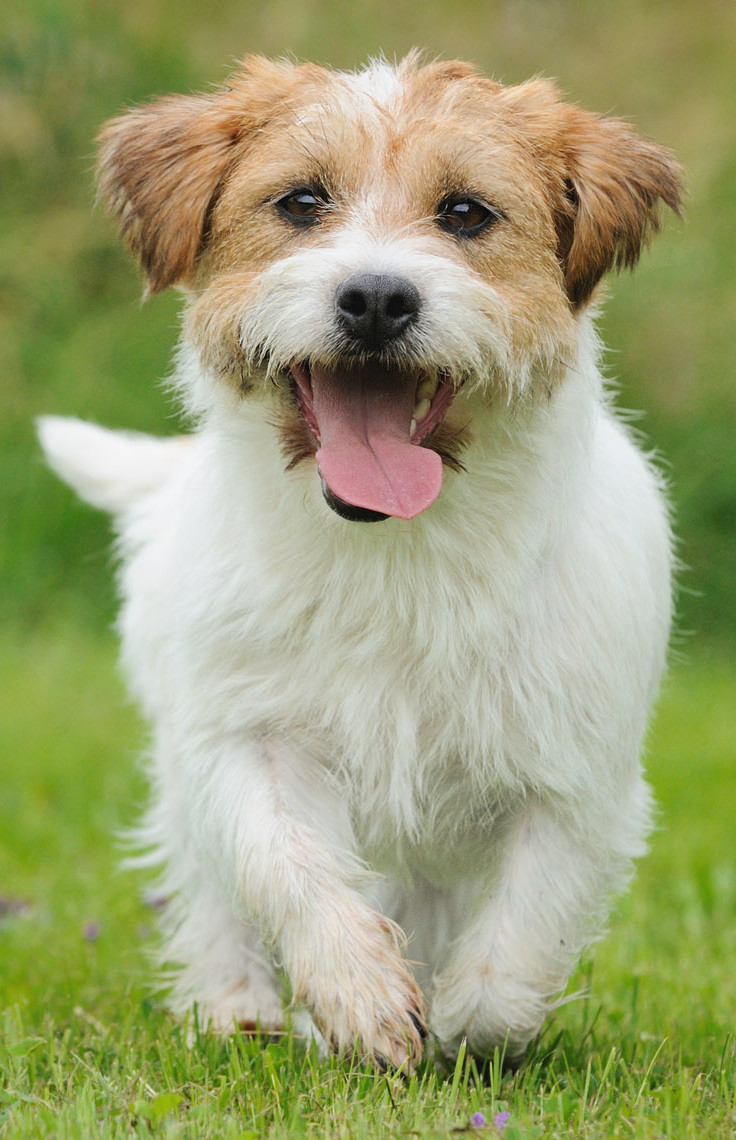dog: (0, 0, 736, 1140)
